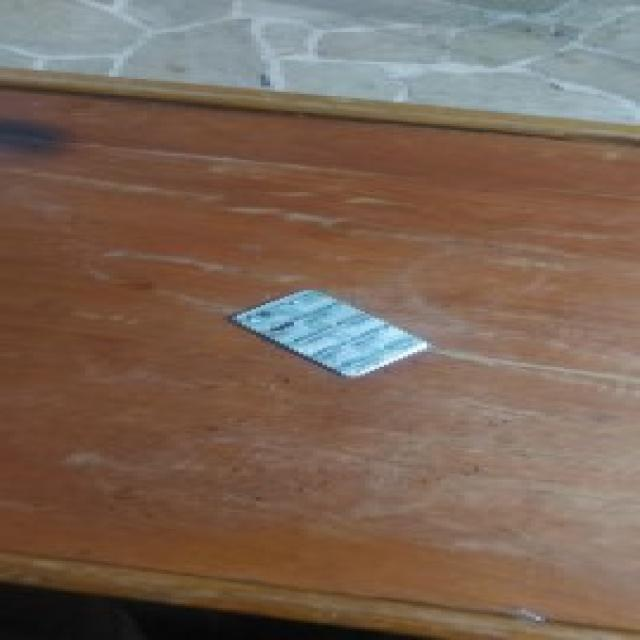Cacat: (234, 287, 426, 377)
Kemasan: (250, 307, 299, 333)
